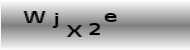2: (87, 23, 101, 36)
W: (23, 10, 47, 24)
X: (66, 24, 83, 38)
e: (104, 12, 117, 23)
j: (52, 12, 58, 28)
